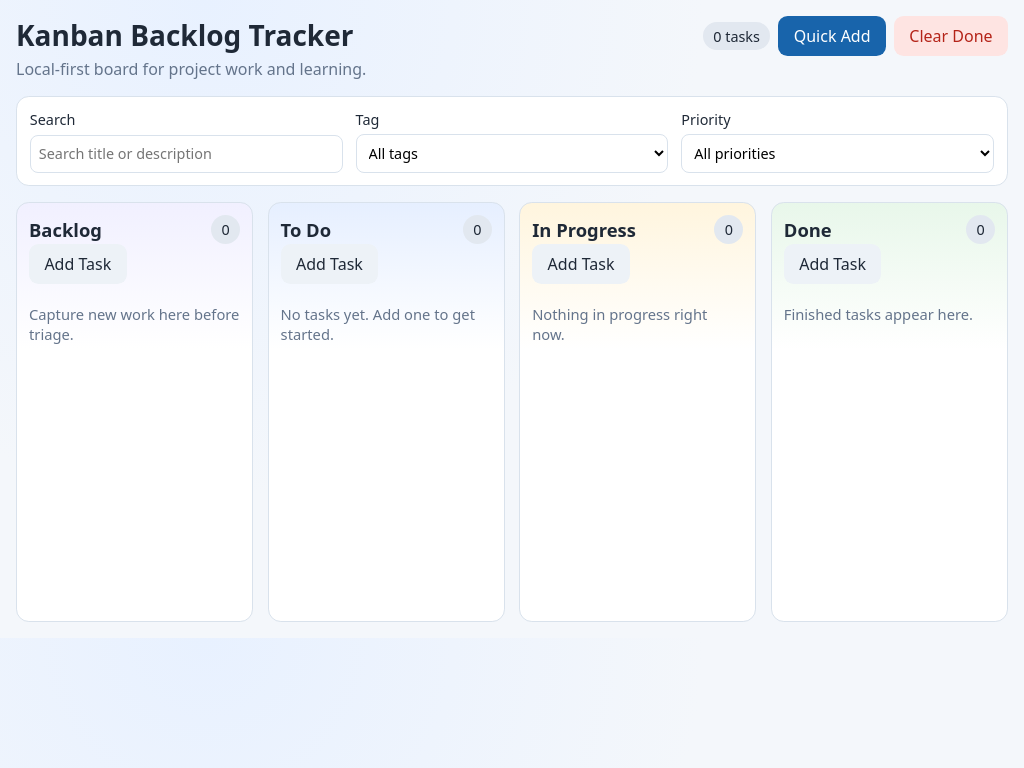
App triage gating › blocks modal save into non-backlog column when triage fields are missing
Click the button "Quick Add" at coordinates (832, 36), box x1=778 y1=16 x2=886 y2=56
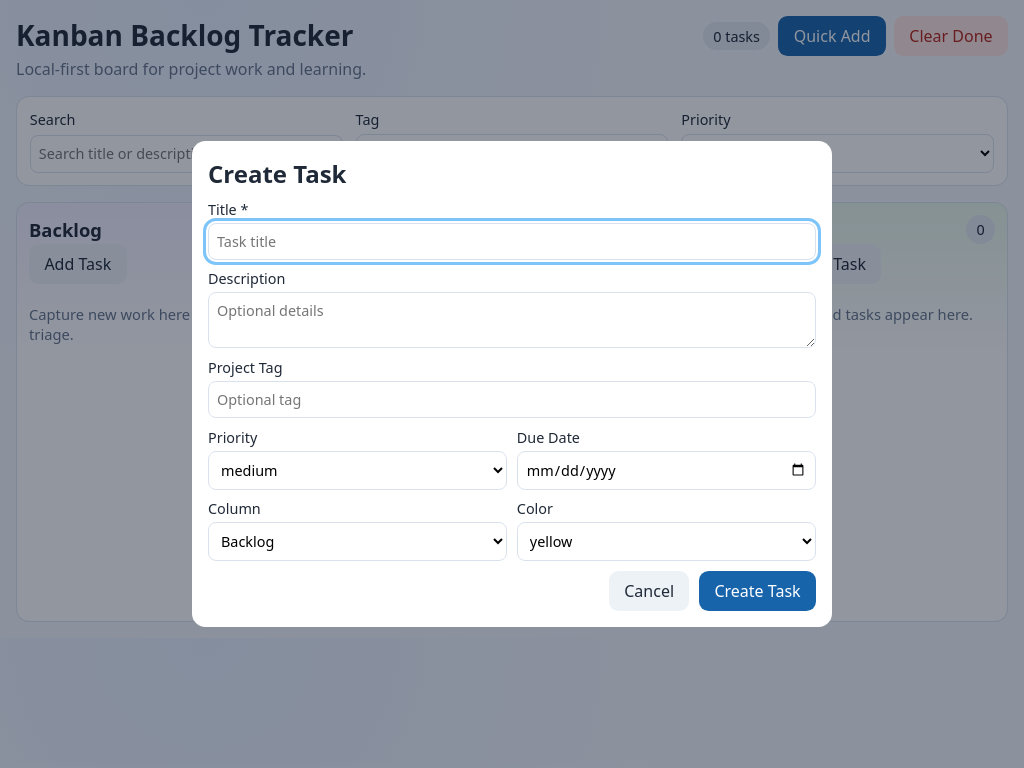
Type "Task without triage" into the field labelled "Title *" at coordinates (512, 241), box x1=208 y1=223 x2=816 y2=260
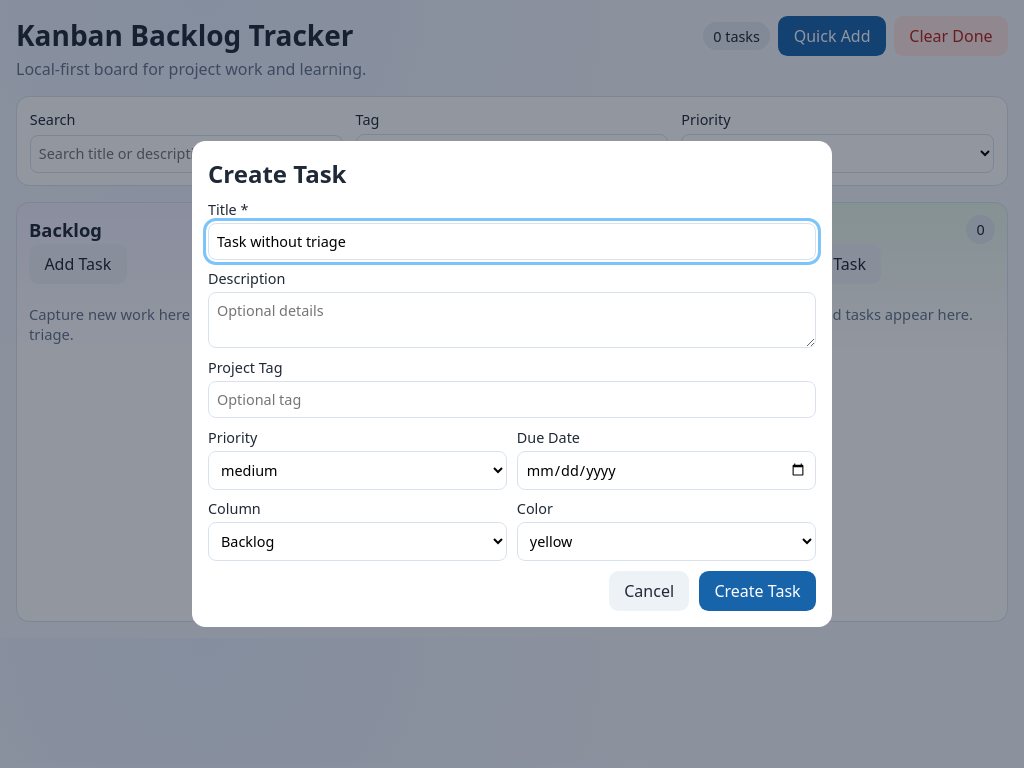
Select "To Do" in the dropdown labelled "Column" at coordinates (358, 542), box x1=208 y1=522 x2=507 y2=561
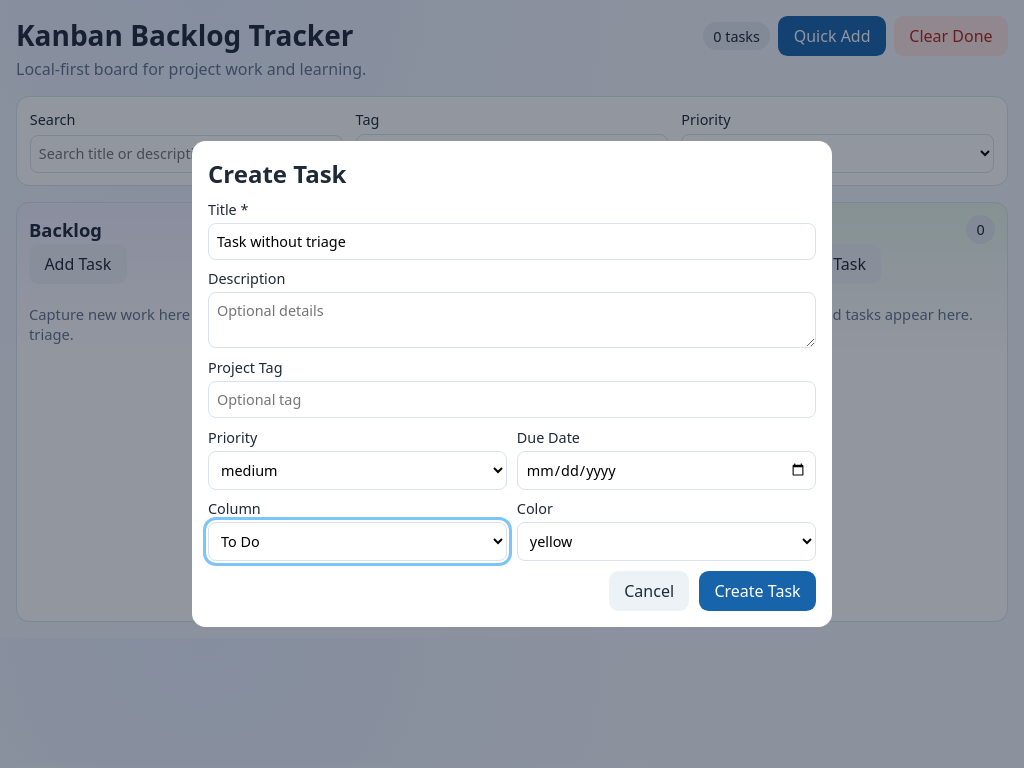
Click the button "Create Task" at coordinates (758, 591), box x1=699 y1=571 x2=816 y2=611
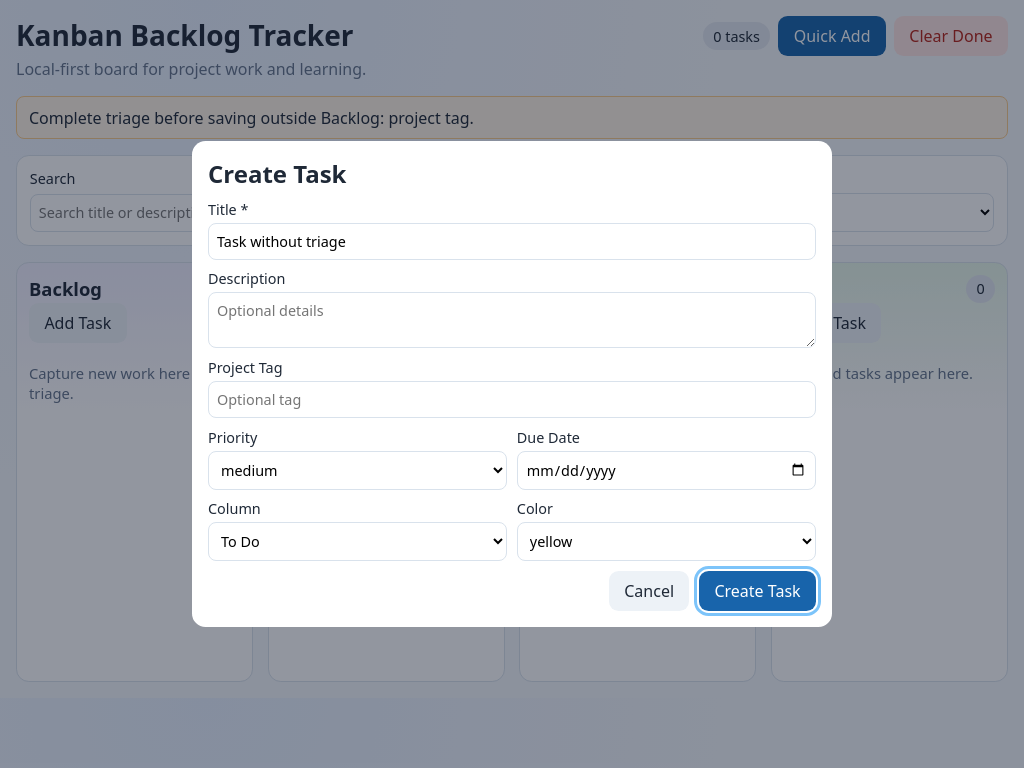
Check: the dialog is shown, box x1=192 y1=141 x2=832 y2=627
Check: the text "Complete triage before saving outside Backlog: project tag." is shown, box x1=16 y1=96 x2=1008 y2=139
